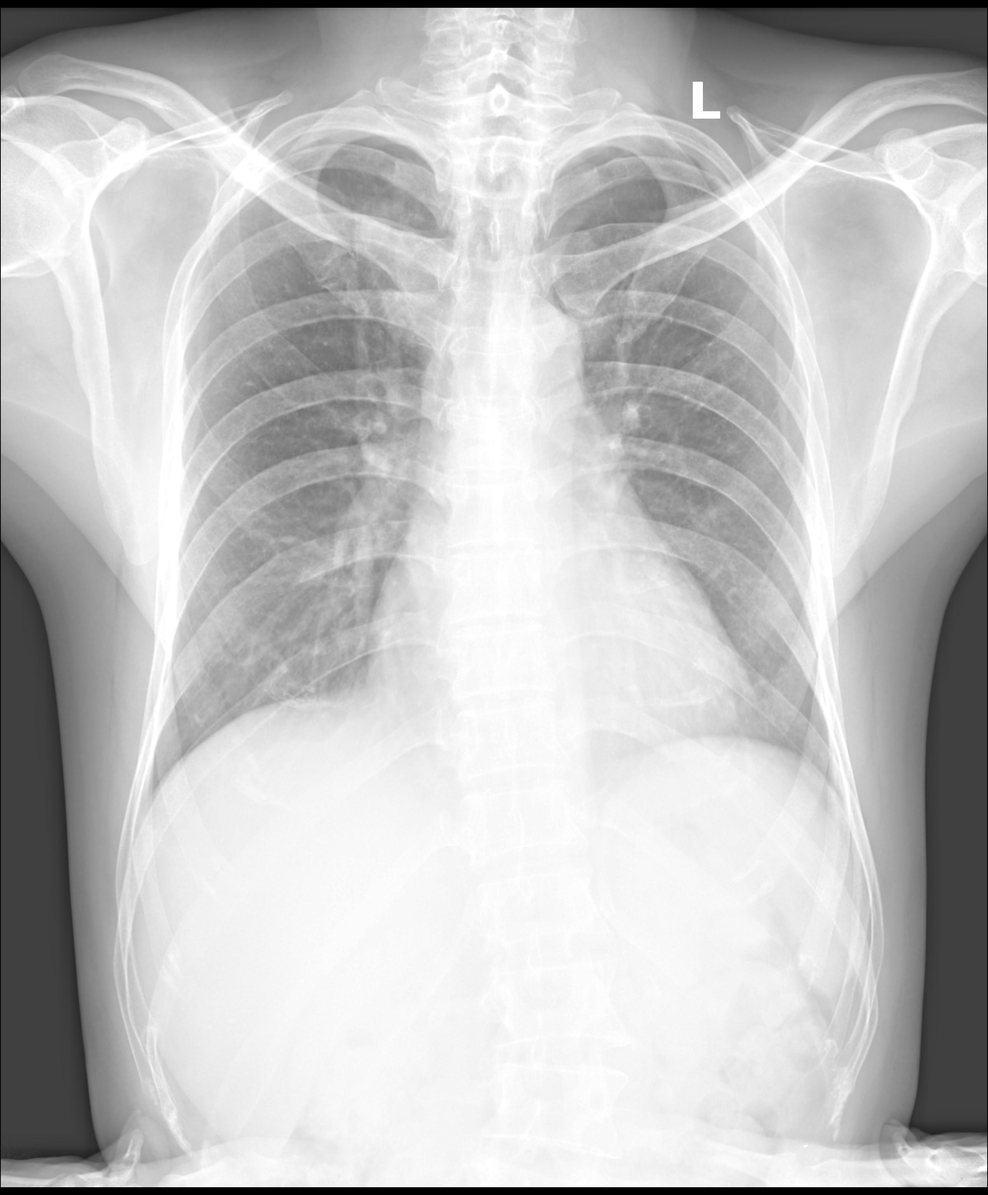Cardiomegaly: (363, 590, 755, 732)
